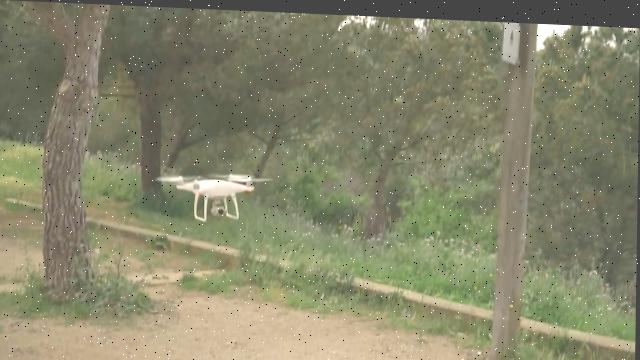drone: (155, 168, 273, 221)
